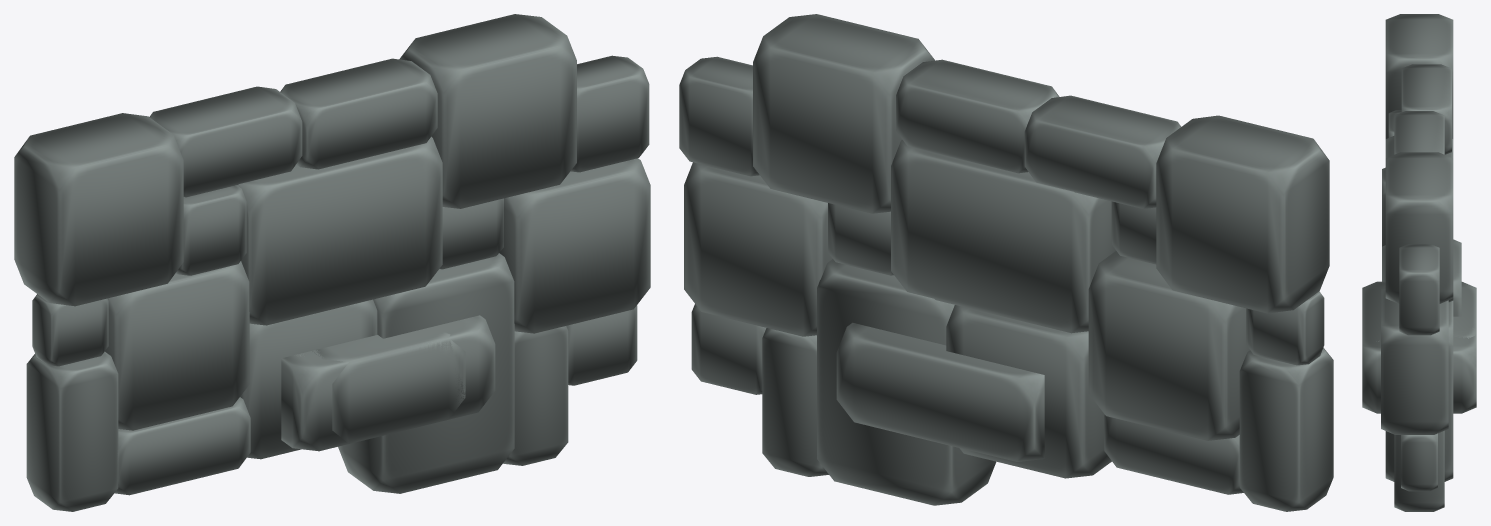
The model's file is hub_chuchoteur_rock_01.fbx.
3 views of the same model, side by side, from view 1: azimuth 30°, elevation 25°; view 2: azimuth 150°, elevation 25°; view 3: azimuth 270°, elevation 25° (orthographic). The views are drawn at different scales.
Visible parts, largest first — view 1: hub_chuchoteur_rock_01d_low, hub_chuchoteur_rock_01a_low, hub_chuchoteur_rock_01b_low; view 2: hub_chuchoteur_rock_01d_low, hub_chuchoteur_rock_01b_low; view 3: hub_chuchoteur_rock_01d_low, hub_chuchoteur_rock_01b_low, hub_chuchoteur_rock_01a_low.
Boxes of the visible parts, x1,y1,x2,y2 form: hub_chuchoteur_rock_01d_low: (14, 14, 650, 511); hub_chuchoteur_rock_01a_low: (312, 331, 465, 443); hub_chuchoteur_rock_01b_low: (281, 315, 495, 451); hub_chuchoteur_rock_01d_low: (679, 14, 1333, 511); hub_chuchoteur_rock_01b_low: (836, 322, 1044, 461); hub_chuchoteur_rock_01d_low: (1381, 14, 1461, 511); hub_chuchoteur_rock_01b_low: (1362, 281, 1476, 413); hub_chuchoteur_rock_01a_low: (1378, 326, 1476, 341).
Bounding box in the file's own units: 350 × 231 × 76.66.
Materials: 1 (1 with a texture image).
